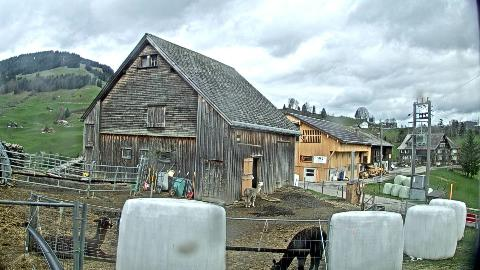car: (390, 162, 396, 172)
sheep: (36, 213, 115, 257), (268, 225, 327, 270), (244, 181, 264, 208), (252, 175, 255, 180)
